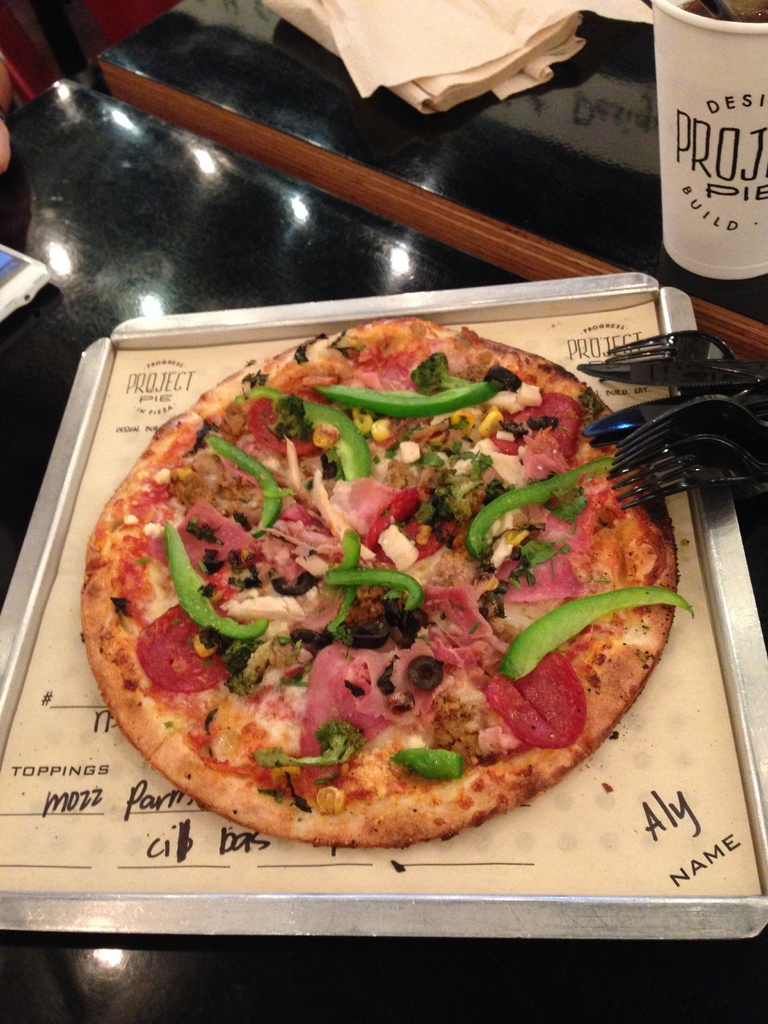Pizza: (80, 303, 680, 855)
